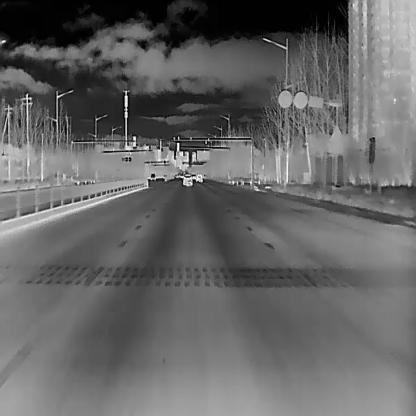car: (181, 172, 192, 186), (196, 173, 202, 182), (150, 172, 155, 180), (191, 172, 196, 178)
